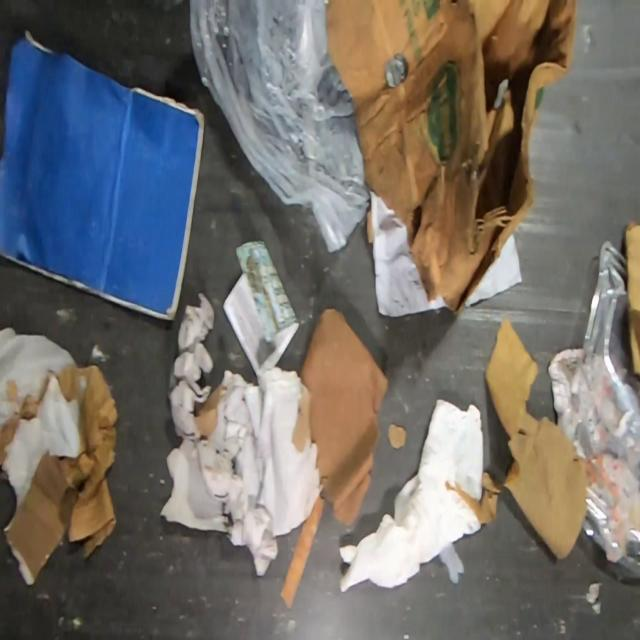cardboard: (326, 0, 581, 320), (0, 29, 206, 327), (193, 308, 390, 609), (445, 320, 596, 559), (0, 363, 120, 590), (386, 422, 410, 449)
rigid_plastic: (561, 236, 640, 580)
soft_plastic: (188, 0, 372, 255)
